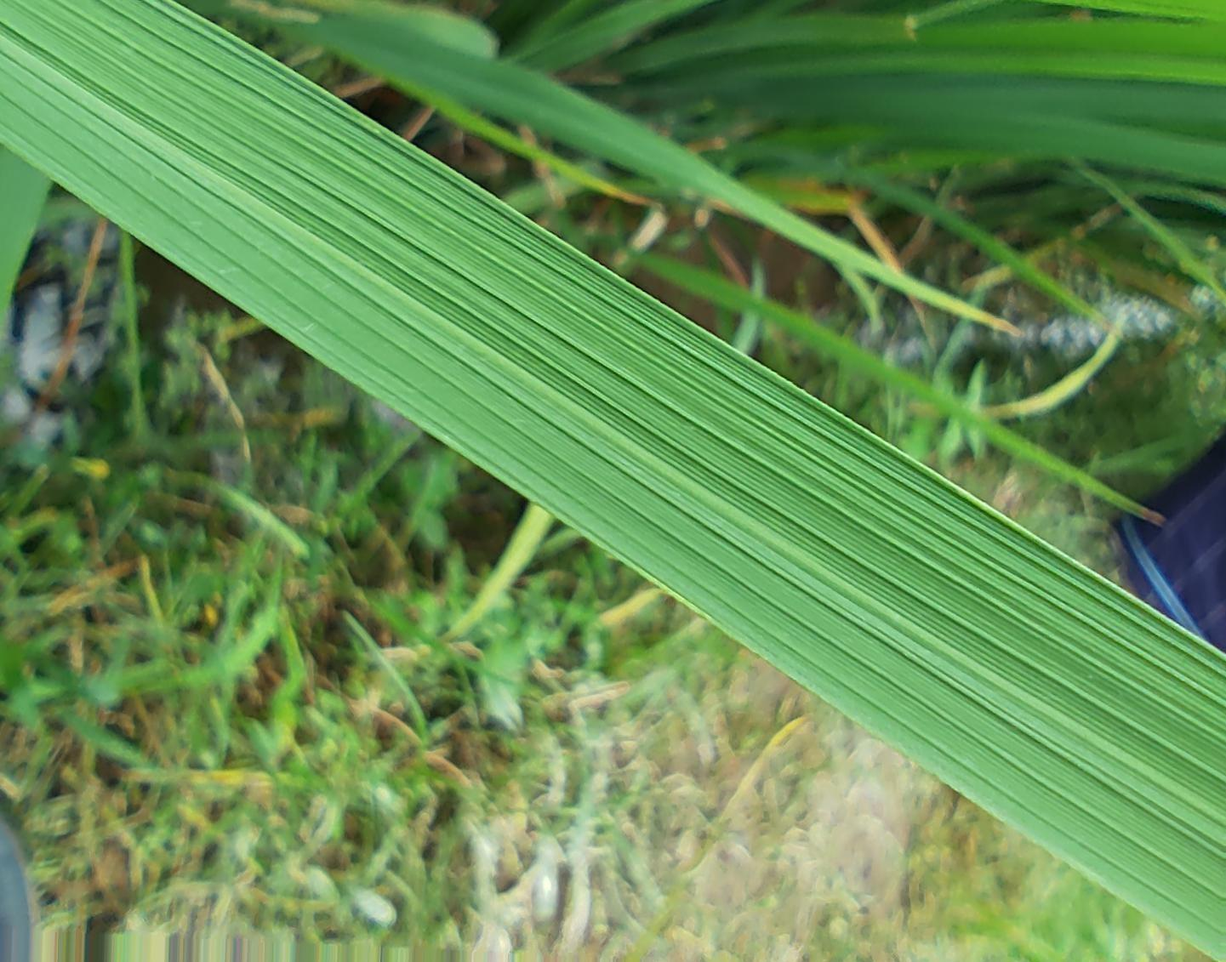Healthy: (1, 0, 1226, 954)
